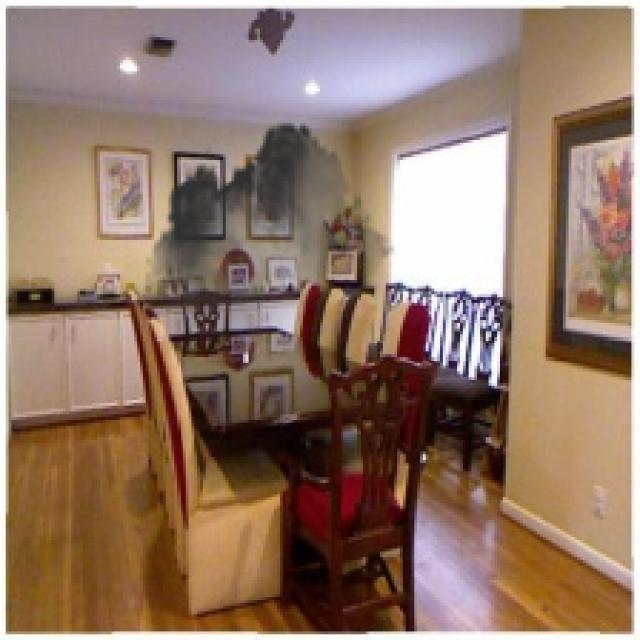Smoke: (146, 112, 397, 374)
